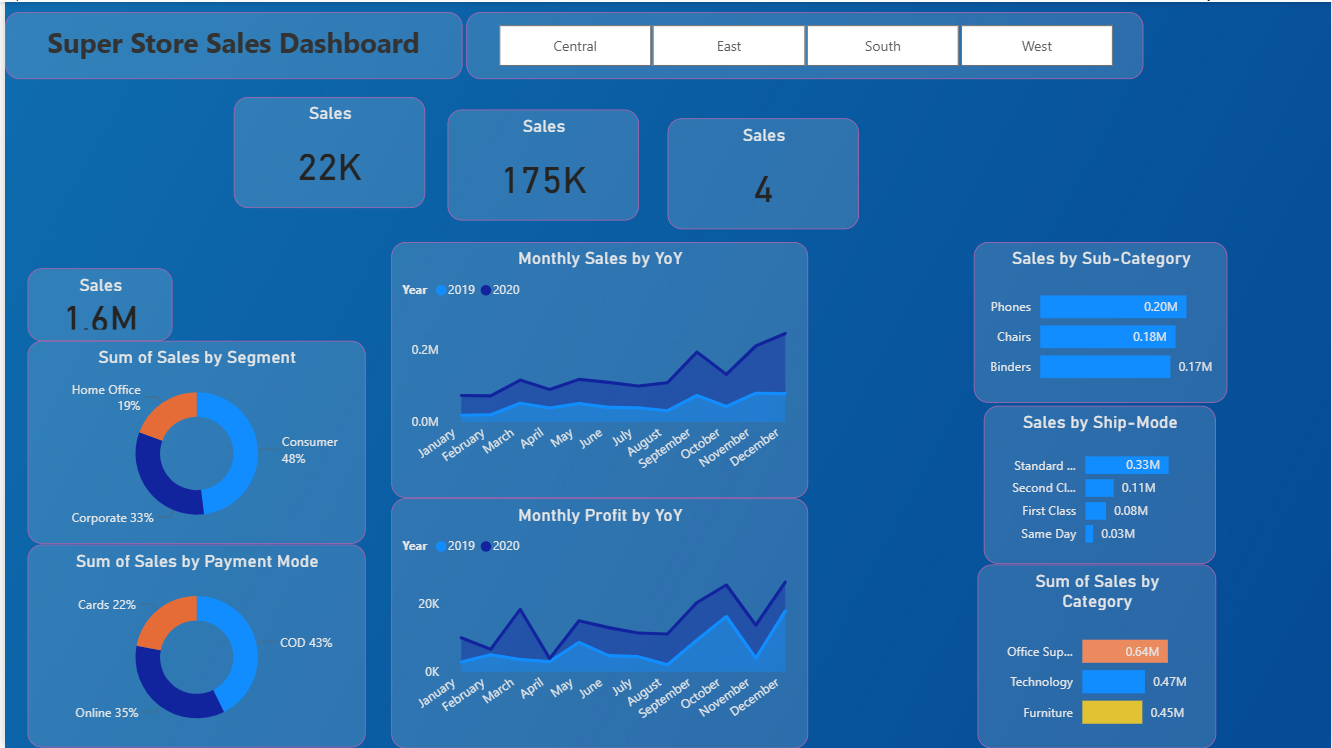

What the dashboard file says about the page in this screenshot:
{"tool":"powerbi","page":{"name":"Page 1","canvas":[1280,720],"ordinal":0},"visuals":[{"type":"clusteredBarChart","title":"Sales by Sub-Category","fields":{"Category":["SuperStore_Sales_Dataset (2).Sub-Category"],"Y":["Sum(SuperStore_Sales_Dataset (2).Sales)"]},"box":[935,231.2,245,155],"z":0},{"type":"clusteredBarChart","title":"Sales by Ship-Mode","fields":{"Category":["SuperStore_Sales_Dataset (2).Ship Mode"],"Y":["Sum(SuperStore_Sales_Dataset (2).Sales)"]},"box":[945,390,223.8,152.5],"z":1000},{"type":"stackedAreaChart","title":"Monthly Sales by YoY","fields":{"Y":["Sum(SuperStore_Sales_Dataset (2).Sales)"],"Category":["SuperStore_Sales_Dataset (2).Order Date.Variation.Date Hierarchy.Month","SuperStore_Sales_Dataset (2).Order Date.Variation.Date Hierarchy.Day"],"Series":["SuperStore_Sales_Dataset (2).Order Date.Variation.Date Hierarchy.Year"]},"box":[372.5,231.2,402.5,247.5],"z":2000},{"type":"stackedAreaChart","title":"Monthly Profit by YoY","fields":{"Category":["SuperStore_Sales_Dataset (2).Order Date.Variation.Date Hierarchy.Month","SuperStore_Sales_Dataset (2).Order Date.Variation.Date Hierarchy.Day"],"Series":["SuperStore_Sales_Dataset (2).Order Date.Variation.Date Hierarchy.Year"],"Y":["Sum(SuperStore_Sales_Dataset (2).Profit)"]},"box":[372.5,478.8,402.5,241.2],"z":3000},{"type":"clusteredBarChart","fields":{"Category":["SuperStore_Sales_Dataset (2).Category"],"Y":["Sum(SuperStore_Sales_Dataset (2).Sales)"]},"box":[938.8,542.5,230,177.5],"z":4000},{"type":"donutChart","fields":{"Category":["SuperStore_Sales_Dataset (2).Segment"],"Y":["Sum(SuperStore_Sales_Dataset (2).Sales)"]},"box":[21.2,327.5,326.2,196.2],"z":5000},{"type":"donutChart","fields":{"Category":["SuperStore_Sales_Dataset (2).Payment Mode"],"Y":["Sum(SuperStore_Sales_Dataset (2).Sales)"]},"box":[21.2,523.8,326.2,196.2],"z":6000},{"type":"slicer","fields":{"Values":["SuperStore_Sales_Dataset (2).Region"]},"box":[445,10,653.8,65],"z":7000},{"type":"textbox","box":[0,10,441.2,65],"z":8000},{"type":"card","title":"Sales","fields":{"Values":["Sum(SuperStore_Sales_Dataset (2).Sales)"]},"box":[21.2,257.5,140,70],"z":9000},{"type":"card","title":"Sales","fields":{"Values":["Sum(SuperStore_Sales_Dataset (2).Quantity)"]},"box":[221.2,91.2,185,107.5],"z":10000},{"type":"card","title":"Sales","fields":{"Values":["Sum(SuperStore_Sales_Dataset (2).Profit)"]},"box":[427.5,103.8,185,107.5],"z":11000},{"type":"card","title":"Sales","fields":{"Values":["Avg(SuperStore_Sales_Dataset (2).AvgDelivery)"]},"box":[640,112.5,185,107.5],"z":12000}]}

Visuals, with their boxes in screenshot pixels (x1, y1, x2, y2), scaled from the page's 1280x720 canvas onto the 1332x748 screenshot:
"Sales by Sub-Category" clusteredBarChart: l=973, t=240, r=1228, b=401
"Sales by Ship-Mode" clusteredBarChart: l=983, t=405, r=1216, b=564
"Monthly Sales by YoY" stackedAreaChart: l=388, t=240, r=806, b=497
"Monthly Profit by YoY" stackedAreaChart: l=388, t=497, r=806, b=747
clusteredBarChart - SuperStore_Sales_Dataset (2).Category x Sum(SuperStore_Sales_Dataset (2).Sales): l=977, t=564, r=1216, b=747
donutChart - SuperStore_Sales_Dataset (2).Segment x Sum(SuperStore_Sales_Dataset (2).Sales): l=22, t=340, r=362, b=544
donutChart - SuperStore_Sales_Dataset (2).Payment Mode x Sum(SuperStore_Sales_Dataset (2).Sales): l=22, t=544, r=362, b=747
slicer - SuperStore_Sales_Dataset (2).Region: l=463, t=10, r=1143, b=78
textbox: l=0, t=10, r=459, b=78
"Sales" card: l=22, t=268, r=168, b=340
"Sales" card: l=230, t=95, r=423, b=206
"Sales" card: l=445, t=108, r=637, b=220
"Sales" card: l=666, t=117, r=859, b=229
